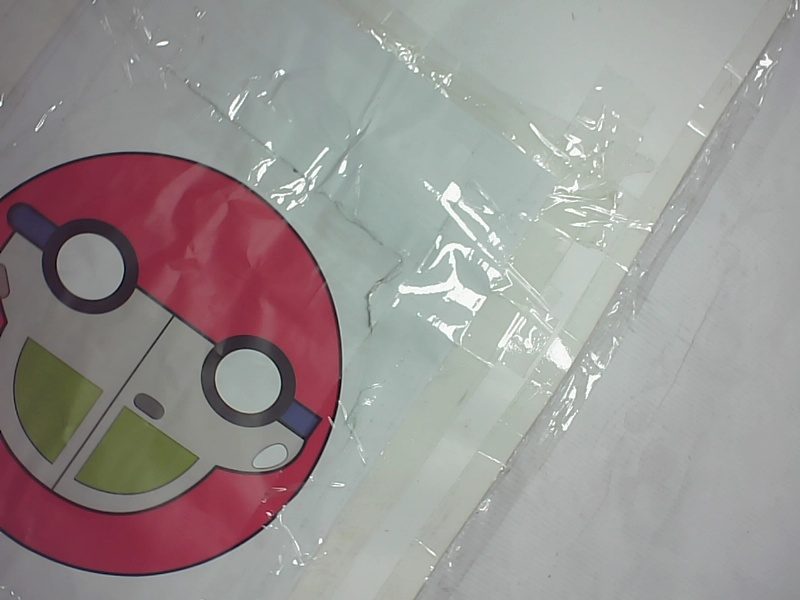areaC: (3, 139, 347, 580)
